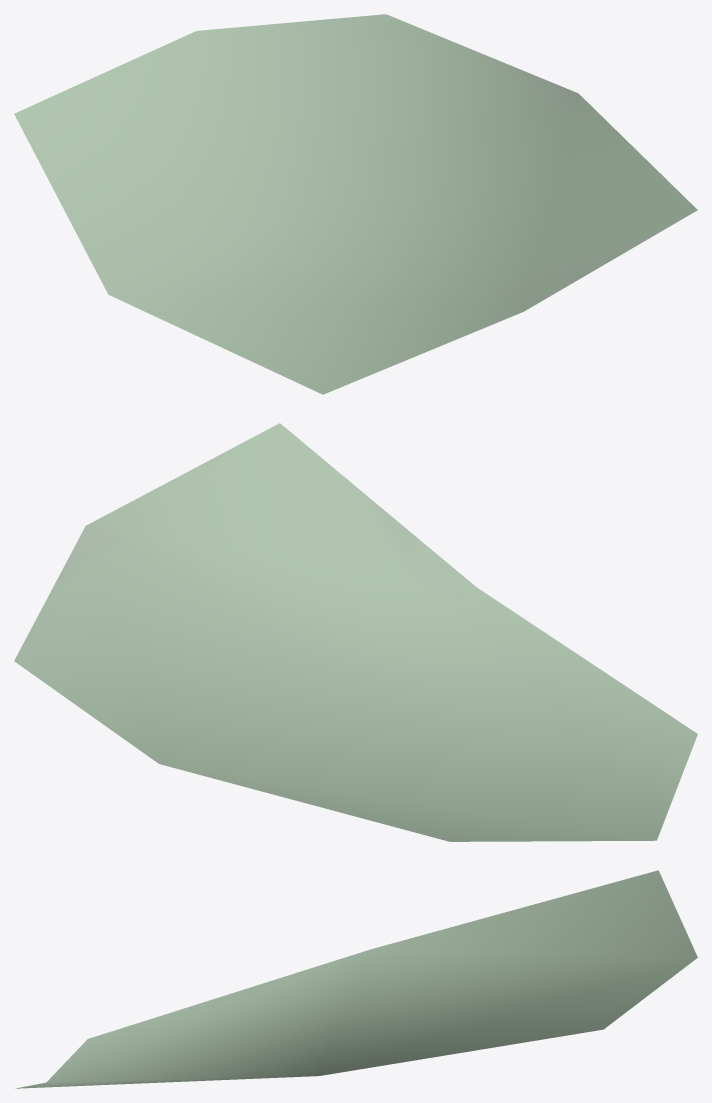
File: TROLLHOLE02_HOLECAP64.fbx
3 renders of one model, top to bottom at view 1: azimuth 30°, elevation 25°; view 2: azimuth 150°, elevation 25°; view 3: azimuth 270°, elevation 25°, orthographic. The views are drawn at different scales.
Visible parts, largest first — view 1: TROLLHOLE02_HOLECAP64; view 2: TROLLHOLE02_HOLECAP64; view 3: TROLLHOLE02_HOLECAP64.
Part boxes in pixels (box(x1,y1,x2,y2)): TROLLHOLE02_HOLECAP64: box(14, 14, 697, 394); TROLLHOLE02_HOLECAP64: box(14, 423, 697, 841); TROLLHOLE02_HOLECAP64: box(15, 870, 697, 1088).
Bounding box in the file's own units: 20718 × 6530 × 23707.
1 material, 1 textured.
